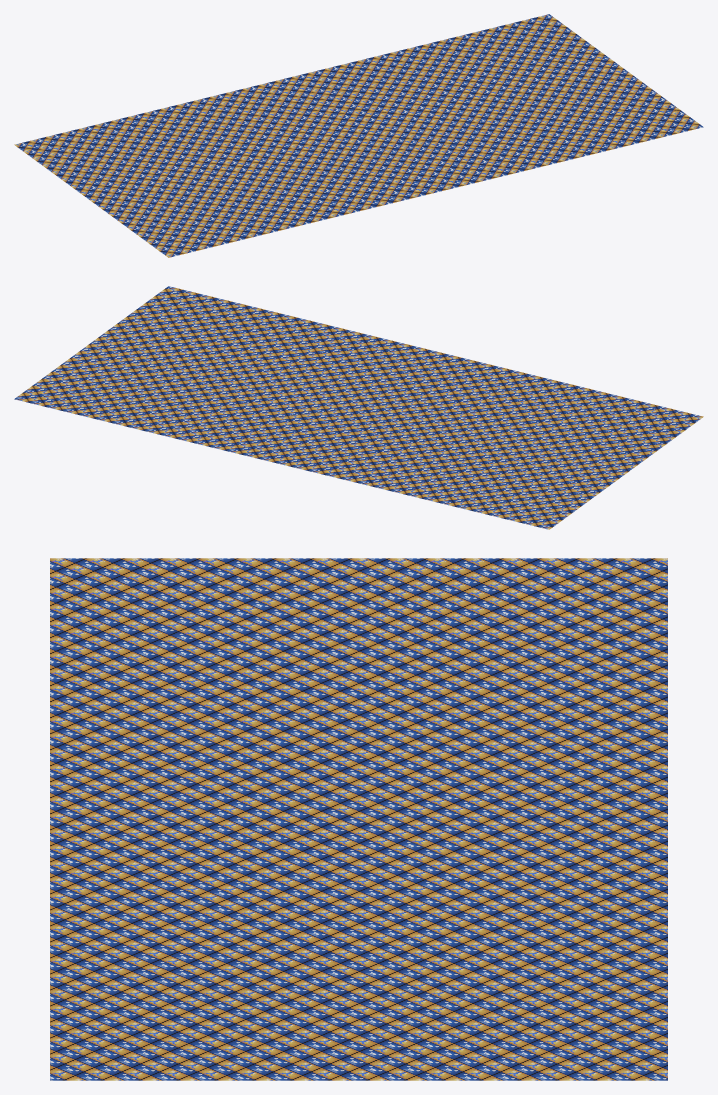
The model's file is Lobby.FBX.
The picture shows the model from 3 angles, top to bottom: view 1: azimuth 30°, elevation 25°; view 2: azimuth 150°, elevation 25°; view 3: azimuth 270°, elevation 25°; orthographic projection. The views are drawn at different scales.
Parts seen in each view (by area): view 1: Plane001; view 2: Plane001; view 3: Plane001.
Boxes of the visible parts, <box> form: Plane001: <box>14,14,703,257</box>; Plane001: <box>14,286,703,529</box>; Plane001: <box>50,558,667,1080</box>.
Bounding box in the file's own units: 4200 × 0.000172 × 2100.
